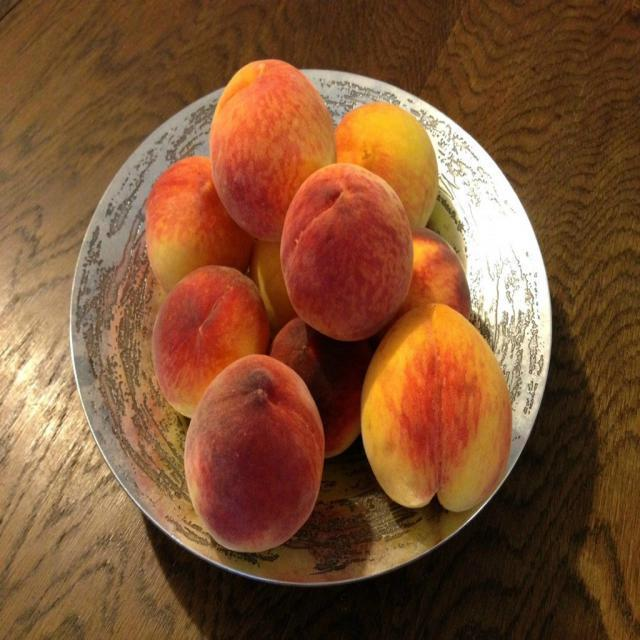Peach: (145, 62, 511, 554), (185, 353, 324, 552)
